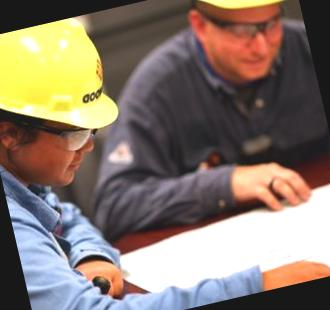helmet: (0, 9, 136, 151), (162, 0, 299, 34)
no_vest: (106, 31, 330, 225)
person: (0, 6, 190, 310), (95, 0, 330, 238)
